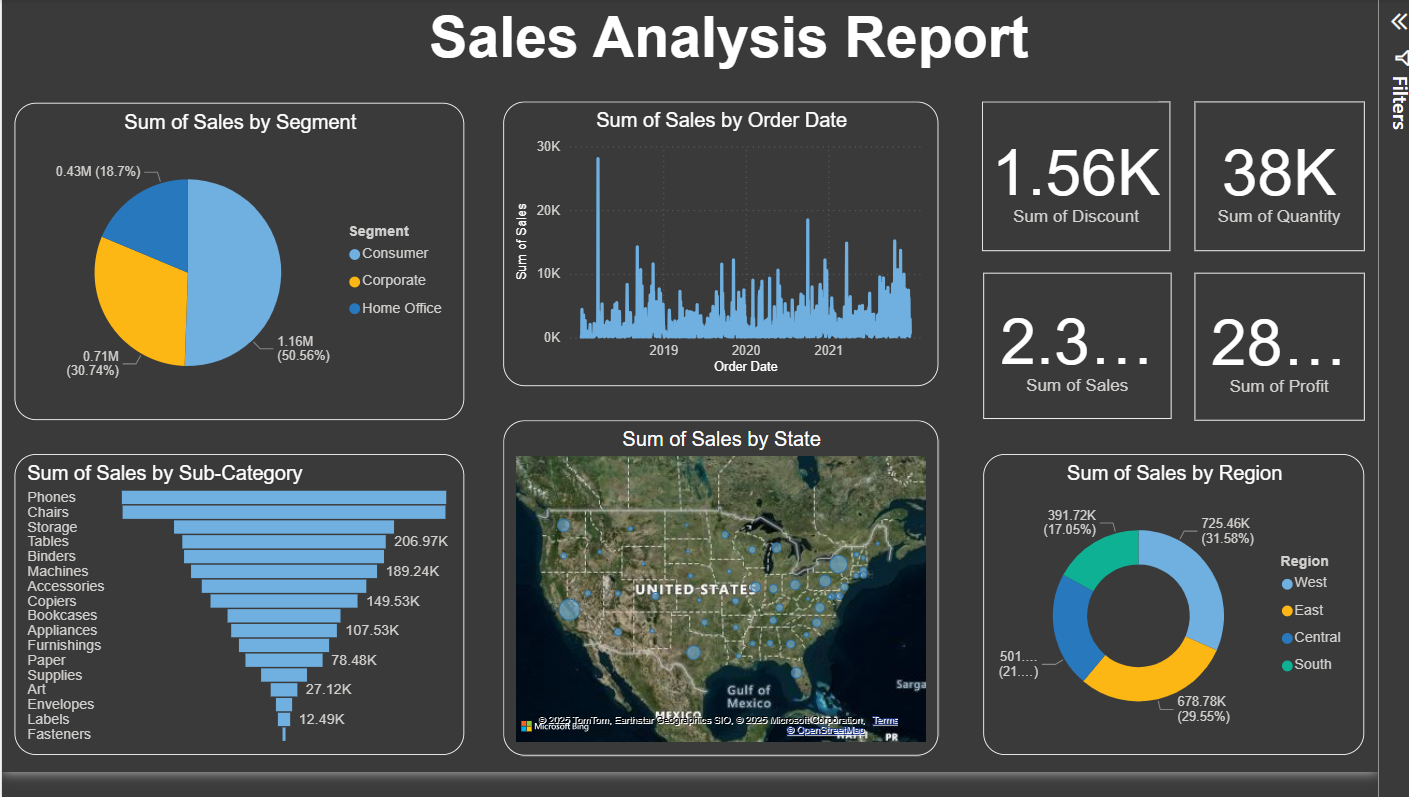

The page's visual inventory and layout, read from the dashboard file:
{"tool":"powerbi","page":{"name":"Page 1","canvas":[1280,720],"ordinal":0},"visuals":[{"type":"donutChart","fields":{"Category":["Orders.Region"],"Y":["Sum(Orders.Sales)"]},"box":[912.8,423.3,354.7,280.2],"z":0},{"type":"funnel","fields":{"Category":["Orders.Sub-Category"],"Y":["Sum(Orders.Sales)"]},"box":[11.6,423.3,418.6,280.2],"z":1000},{"type":"map","fields":{"Category":["Orders.State"],"Size":["Sum(Orders.Sales)"]},"box":[466.3,391.9,404.7,311.6],"z":2000},{"type":"pieChart","fields":{"Category":["Orders.Segment"],"Y":["Sum(Orders.Sales)"]},"box":[11.6,96.5,418.6,295.3],"z":3000},{"type":"lineChart","fields":{"Category":["Orders.Order Date"],"Y":["Sum(Orders.Sales)"]},"box":[466.3,95.3,404.7,265.1],"z":4000},{"type":"card","fields":{"Values":["Sum(Orders.Sales)"]},"box":[912.8,254.7,175.6,136],"z":5000},{"type":"card","fields":{"Values":["Sum(Orders.Profit)"]},"box":[1109.3,254.7,158.1,137.2],"z":6000},{"type":"card","fields":{"Values":["Sum(Orders.Discount)"]},"box":[911.6,95.3,175.6,139.5],"z":7000},{"type":"card","fields":{"Values":["Sum(Orders.Quantity)"]},"box":[1109.3,95.3,158.1,139.5],"z":8000},{"type":"textbox","box":[262.5,0,812.5,95],"z":9000}]}

Visuals, with their boxes in screenshot pixels (x1, y1, x2, y2), scaled from the page's 1280x720 canvas onto the 1409x797 screenshot:
donutChart - Orders.Region x Sum(Orders.Sales): 1005, 469, 1395, 779
funnel - Orders.Sub-Category x Sum(Orders.Sales): 13, 469, 474, 779
map - Orders.State x Sum(Orders.Sales): 513, 434, 959, 779
pieChart - Orders.Segment x Sum(Orders.Sales): 13, 107, 474, 434
lineChart - Orders.Order Date x Sum(Orders.Sales): 513, 105, 959, 399
card - Sum(Orders.Sales): 1005, 282, 1198, 432
card - Sum(Orders.Profit): 1221, 282, 1395, 434
card - Sum(Orders.Discount): 1003, 105, 1197, 260
card - Sum(Orders.Quantity): 1221, 105, 1395, 260
textbox: 289, 0, 1183, 105
